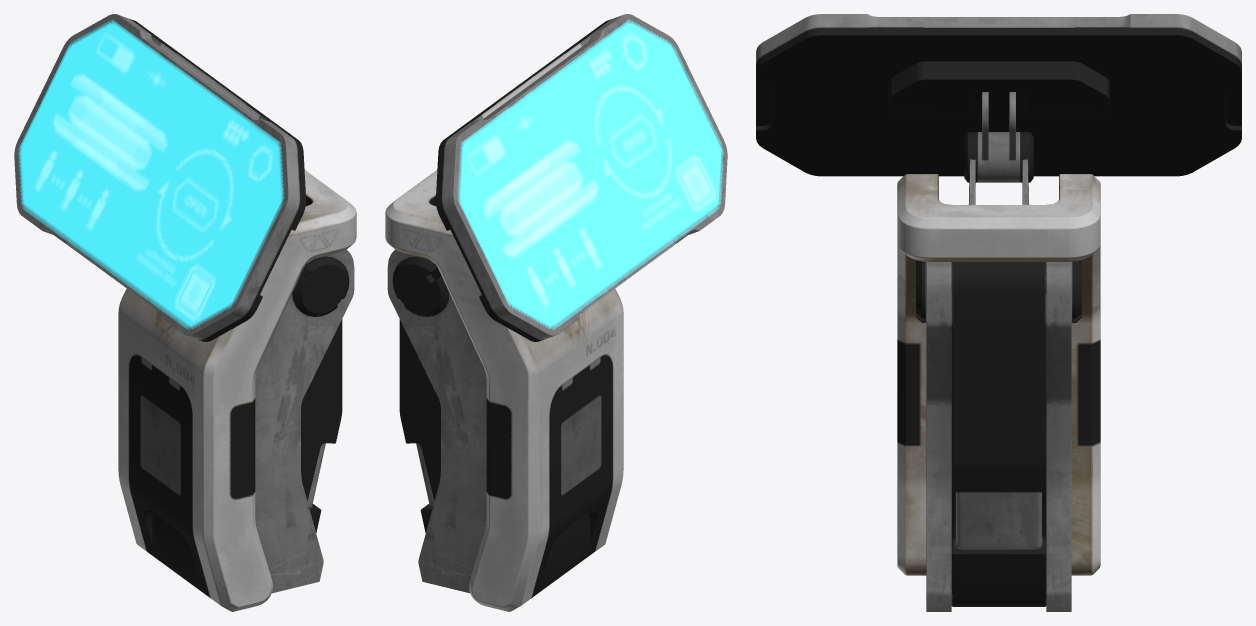
The model's file is scifi_terminal.glb.
3 renders of one model, left to right at view 1: azimuth 30°, elevation 25°; view 2: azimuth 150°, elevation 25°; view 3: azimuth 270°, elevation 25°, orthographic. The views are drawn at different scales.
Visible parts, largest first — view 1: screen_low, front_piece_low, middle_piece_low, back_piece_low; view 2: screen_low, front_piece_low, middle_piece_low, back_piece_low; view 3: screen_low, back_piece_low, front_piece_low, middle_piece_low, hinge_bottom_low.
Boxes of the visible parts, x1,y1,x2,y2 form: screen_low: (14,14,306,341); front_piece_low: (118,170,356,611); middle_piece_low: (255,249,354,593); back_piece_low: (301,319,342,532); screen_low: (435,14,727,341); front_piece_low: (385,170,623,611); middle_piece_low: (387,249,486,593); back_piece_low: (399,319,440,532); screen_low: (756,14,1241,182); back_piece_low: (951,262,1046,606); front_piece_low: (897,174,1100,575); middle_piece_low: (916,260,1081,611); hinge_bottom_low: (964,132,1033,204).
Size of the model in its own units: 2.56 by 5.63 by 4.49.
Materials: 1 (1 with a texture image).
